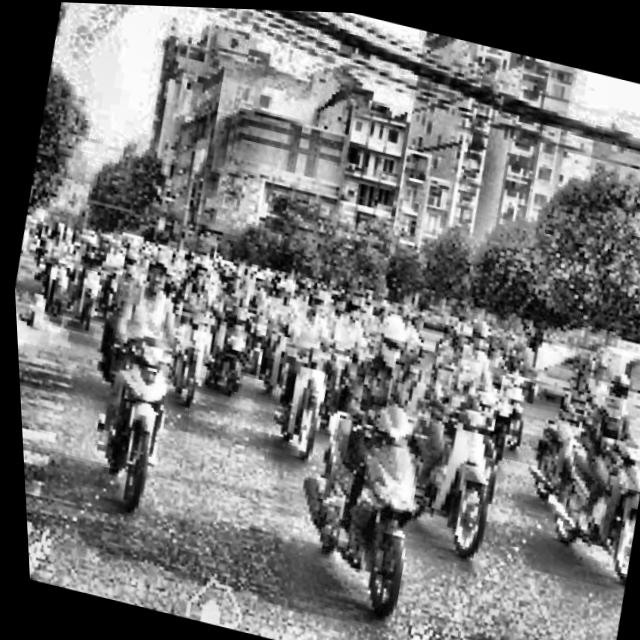motorcycle: (264, 364, 428, 612), (520, 402, 640, 592), (399, 384, 507, 559), (73, 329, 178, 509), (255, 329, 333, 454), (154, 290, 217, 403), (473, 352, 542, 450), (210, 301, 252, 398), (67, 263, 100, 333), (37, 253, 71, 318)
